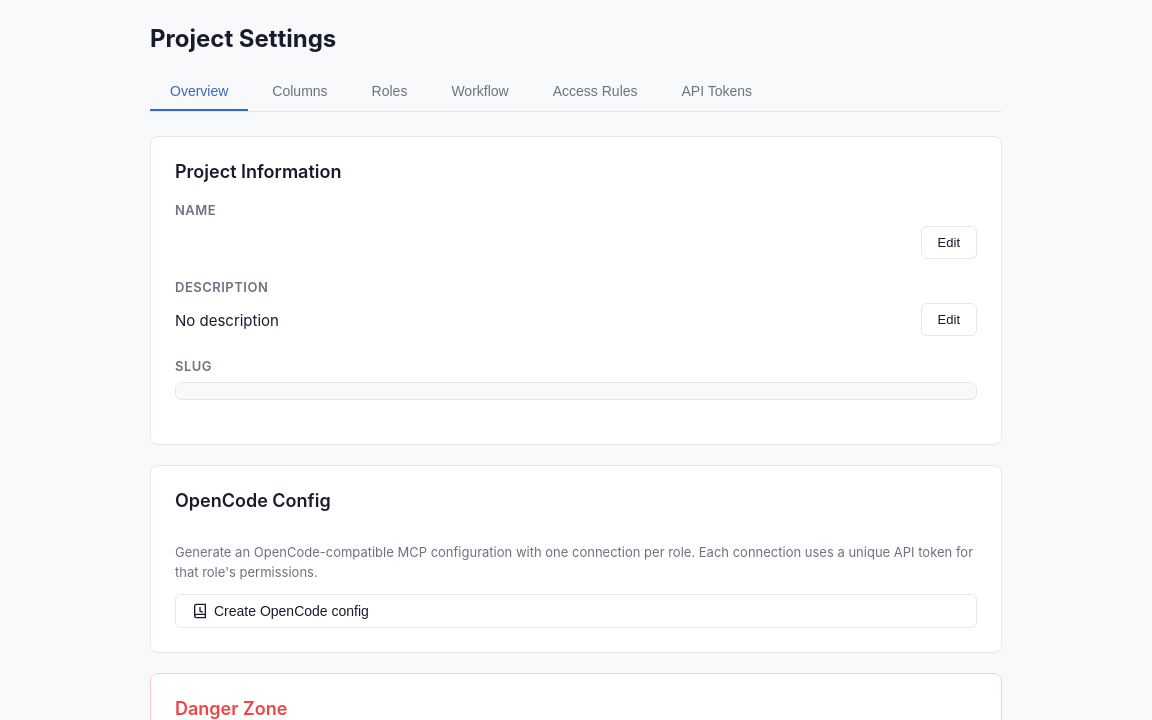
it: Settings › switches to columns tab
This screenshot has width=1152, height=720.
Click the button with class "tab-btn" showing "Columns" at (300, 92), box 252,73 -> 348,111
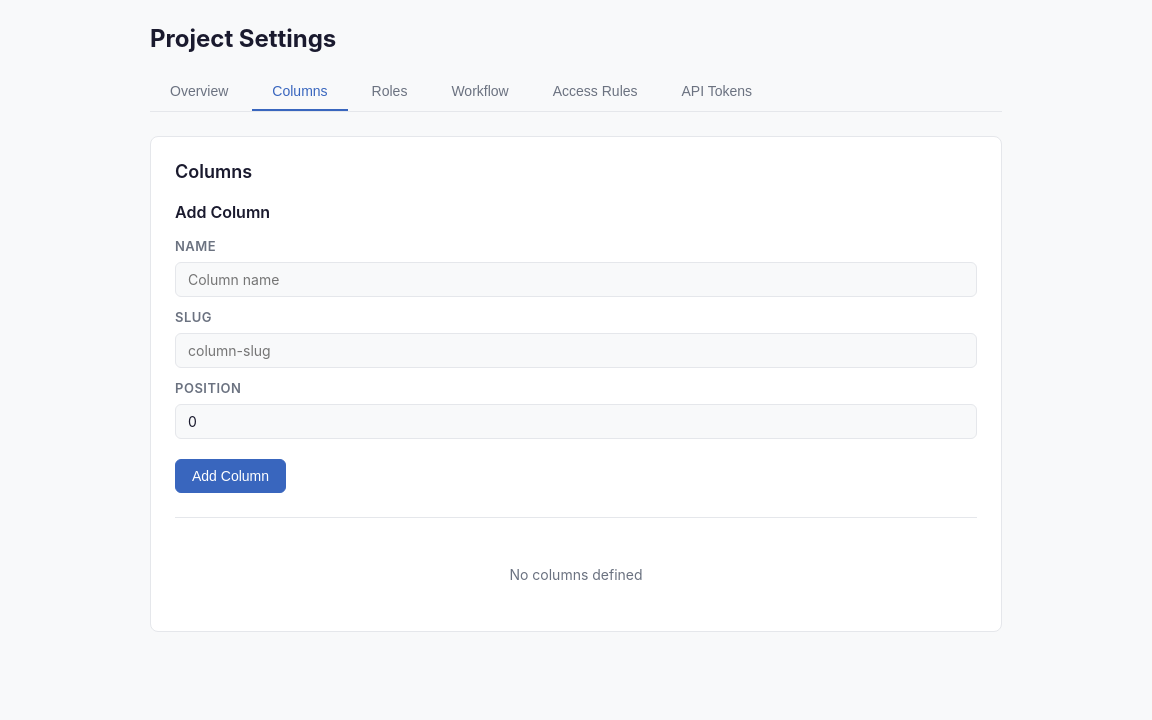
Check: the element with class "add-column-form" is shown, box 175,202 -> 977,518
